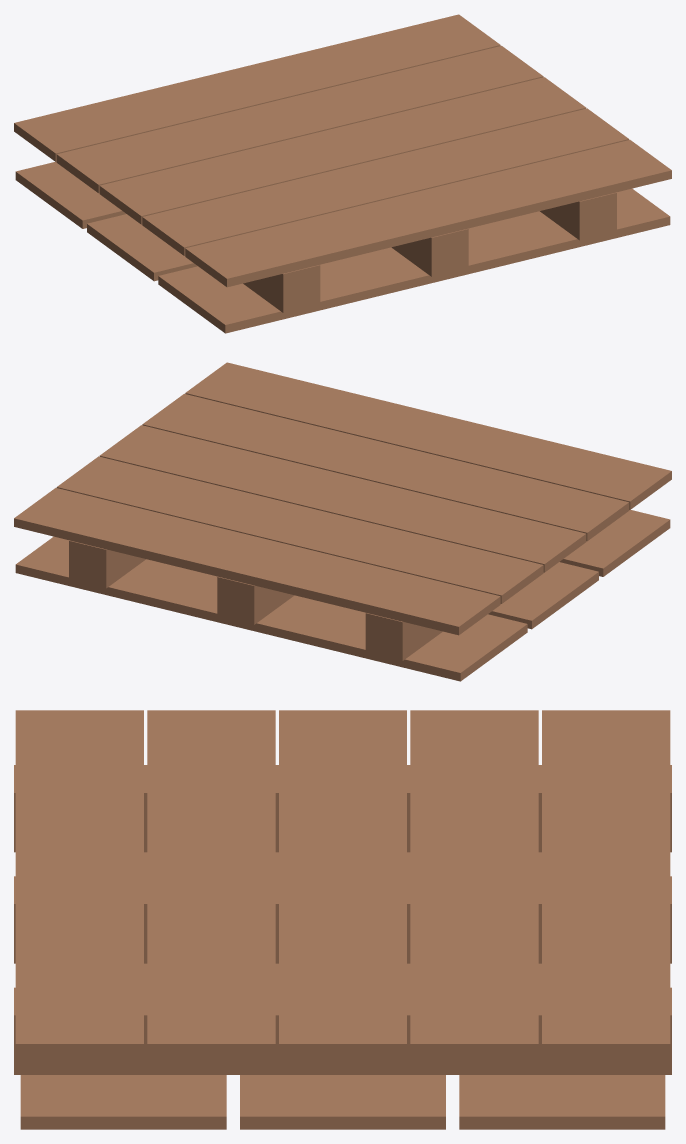
The model's file is pallet-wood-1200x1000.glb.
3 views of the same model, one above another, from view 1: azimuth 30°, elevation 25°; view 2: azimuth 150°, elevation 25°; view 3: azimuth 270°, elevation 25° (orthographic). The views are drawn at different scales.
Parts seen in each view (by area): view 1: world; view 2: world; view 3: world.
Boxes of the visible parts, x1=… form: world: x1=14, y1=14, x2=671, y2=333; world: x1=14, y1=362, x2=671, y2=681; world: x1=14, y1=710, x2=671, y2=1129.
Bounding box in the file's own units: 1200 × 144 × 1000.
